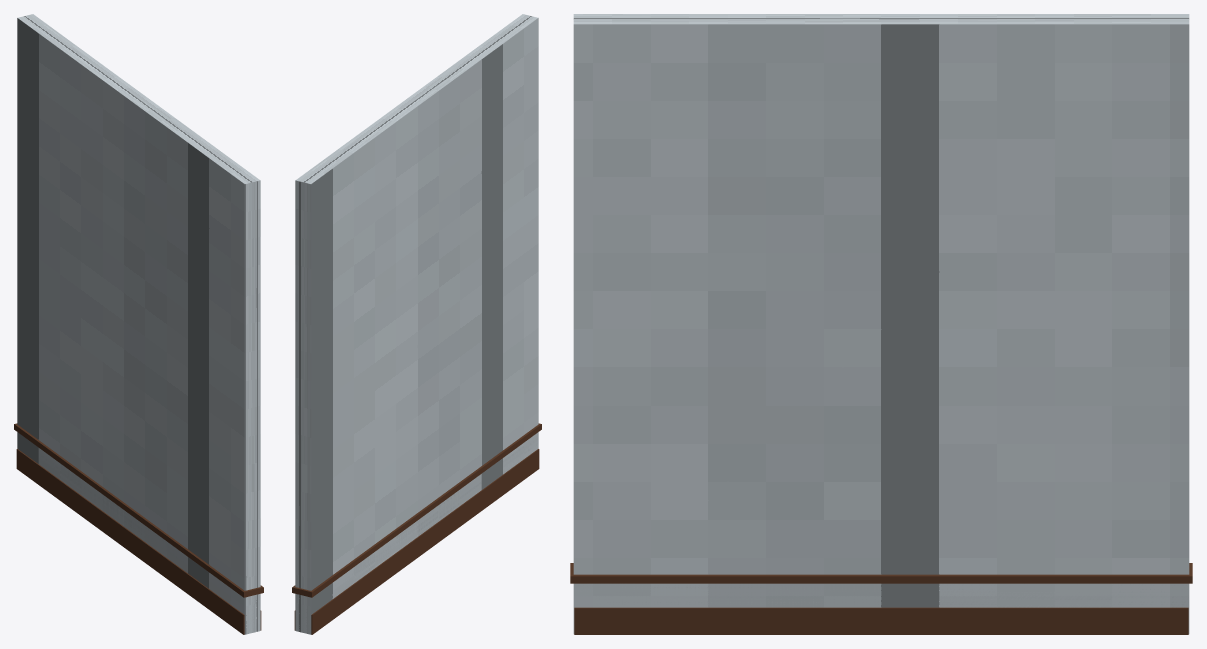
The model's file is stair_side.glb.
3 renders of one model, left to right at view 1: azimuth 30°, elevation 25°; view 2: azimuth 150°, elevation 25°; view 3: azimuth 270°, elevation 25°, orthographic. The views are drawn at different scales.
Parts seen in each view (by area): view 1: Box1, Box2, Box4, Box3; view 2: Box1, Box2, Box3, Box4; view 3: Box1, Box2, Box4, Box3.
Boxes of the visible parts, x1,y1,x2,y2 form: Box1: [17, 14, 260, 634]; Box2: [16, 449, 261, 634]; Box4: [14, 423, 263, 597]; Box3: [17, 432, 260, 633]; Box1: [295, 14, 538, 634]; Box2: [294, 449, 539, 634]; Box3: [295, 432, 538, 633]; Box4: [292, 423, 541, 597]; Box1: [573, 14, 1189, 633]; Box2: [574, 607, 1188, 634]; Box4: [570, 563, 1192, 583]; Box3: [573, 583, 1188, 619].
Bounding box in the file's own units: 0.19 × 4.1 × 3.79.
Materials: 2 (1 with a texture image).
